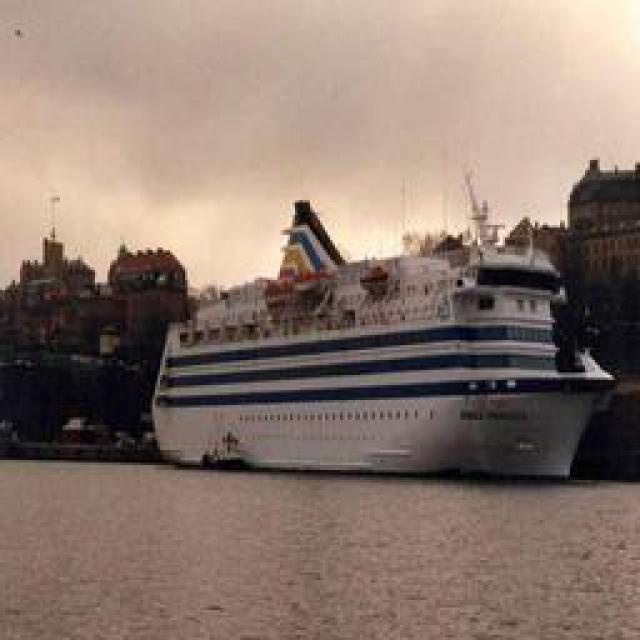Ship: (154, 181, 609, 474)
